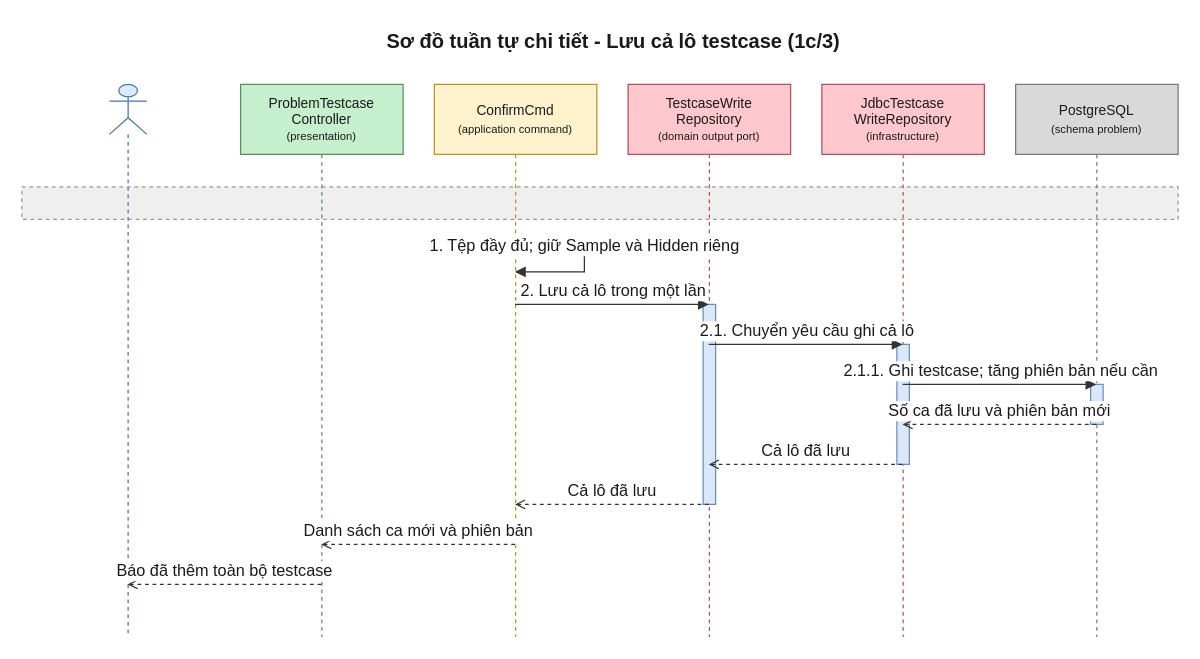
Some shapes in this 1200 by 659 pixel diagram are drawn without their labels. The shapes that lost their labels are listed below. From the top down, each one's box as (x1, y1, x2, y2) in pixels, then its label:
(21, 186, 1178, 219): Giai đoạn 4 - Lưu trọn lô đã kiểm (F2-05, F2-06, F2-07)
(108, 83, 147, 637): Người soạn đề
